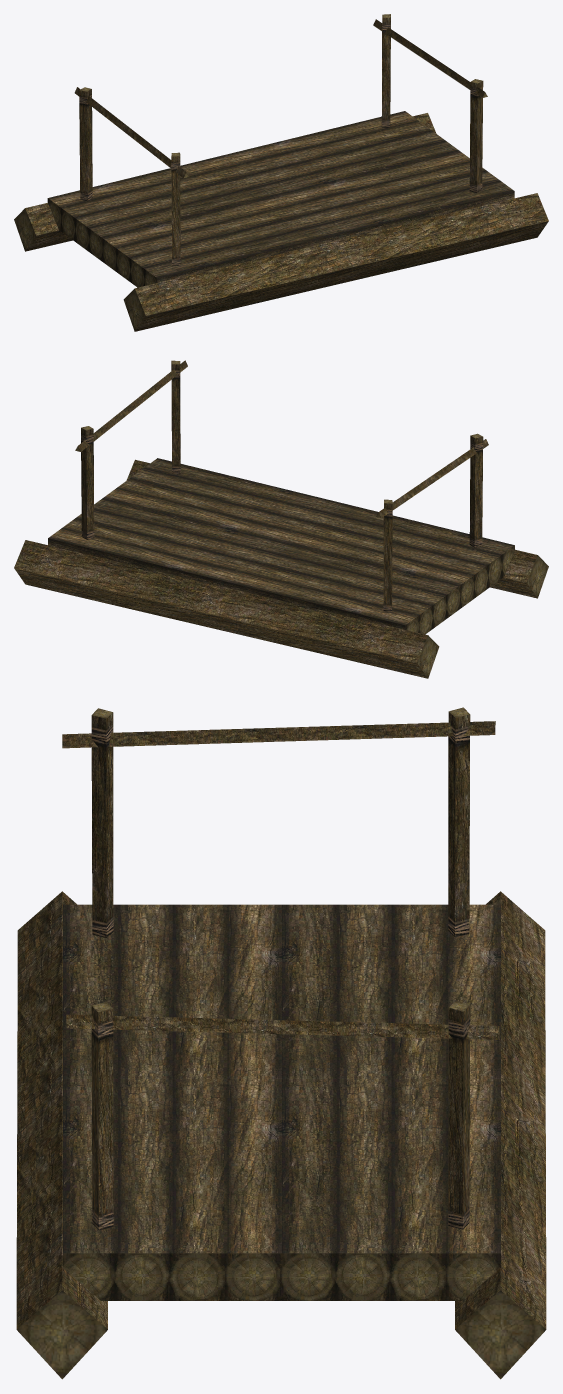
Rendered from thm_endr_village_tree_catwlk_cap_s01_l1.fbx.
3 renders of one model, top to bottom at view 1: azimuth 30°, elevation 25°; view 2: azimuth 150°, elevation 25°; view 3: azimuth 270°, elevation 25°, orthographic. The views are drawn at different scales.
Parts seen in each view (by area): view 1: mesh_node; view 2: mesh_node; view 3: mesh_node.
Boxes of the visible parts, x1=… form: mesh_node: x1=14, y1=14, x2=548, y2=331; mesh_node: x1=14, y1=360, x2=548, y2=678; mesh_node: x1=16, y1=707, x2=546, y2=1379.
Size of the model in its own units: 4.04 by 1.55 by 2.3.
